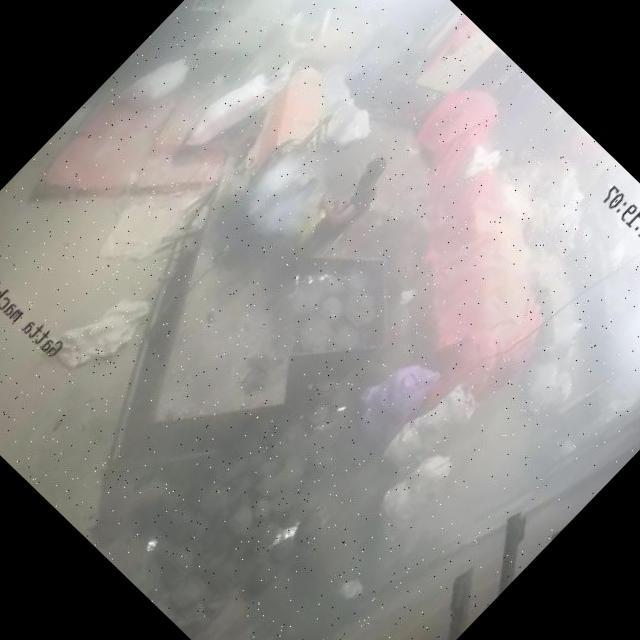person: (300, 148, 404, 254)
